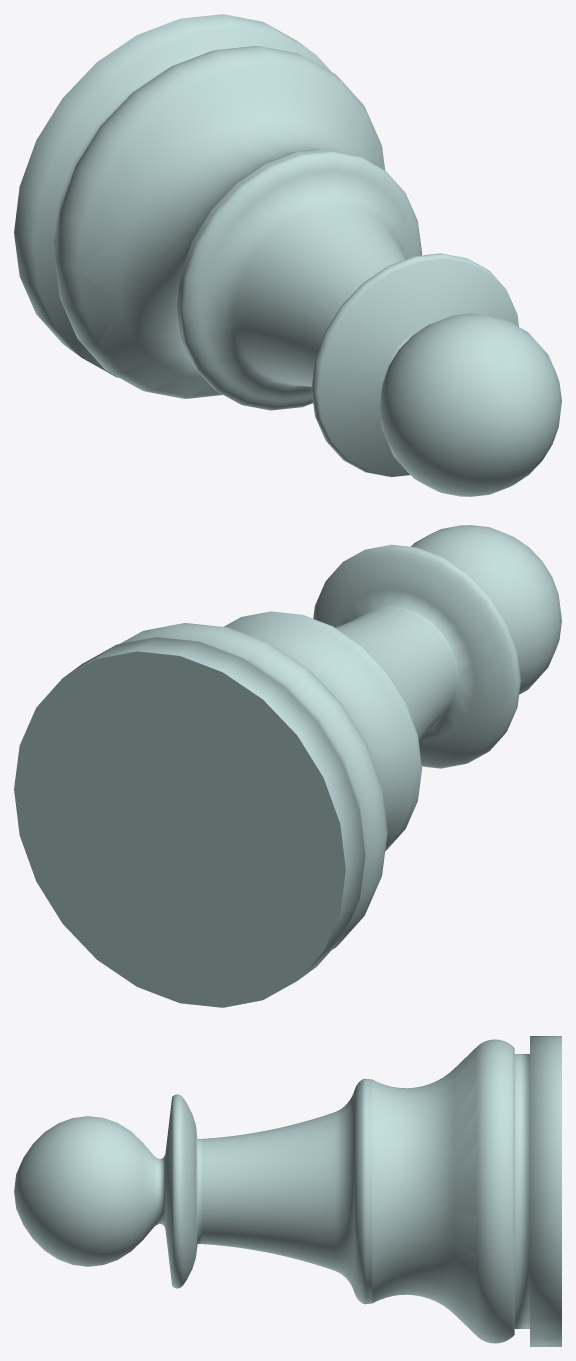
The model's file is WhitePawn.obj.
3 renders of one model, top to bottom at view 1: azimuth 30°, elevation 25°; view 2: azimuth 150°, elevation 25°; view 3: azimuth 270°, elevation 25°, orthographic. The views are drawn at different scales.
Visible parts, largest first — view 1: Mesh1 Agrupar_6_1 Group1 Model, Mesh2 Componente_1_1 Group1 Model; view 2: Mesh2 Componente_1_1 Group1 Model, Mesh1 Agrupar_6_1 Group1 Model; view 3: Mesh2 Componente_1_1 Group1 Model, Mesh1 Agrupar_6_1 Group1 Model.
Part boxes in pixels (<box>): Mesh1 Agrupar_6_1 Group1 Model: <box>177,149,561,496</box>; Mesh2 Componente_1_1 Group1 Model: <box>14,14,385,398</box>; Mesh2 Componente_1_1 Group1 Model: <box>14,616,415,1007</box>; Mesh1 Agrupar_6_1 Group1 Model: <box>224,525,561,850</box>; Mesh2 Componente_1_1 Group1 Model: <box>372,1036,561,1346</box>; Mesh1 Agrupar_6_1 Group1 Model: <box>14,1078,372,1304</box>.
Size of the model in its own units: 49.5 by 49.5 by 86.94.
